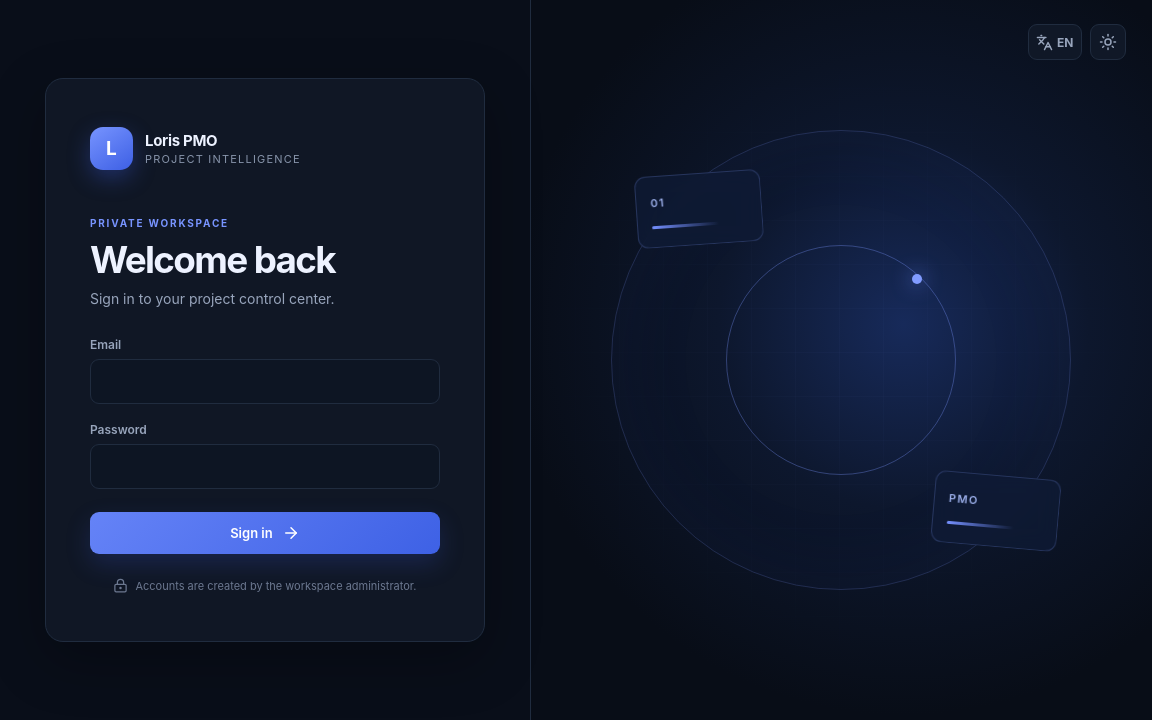
application foundation › redirects an anonymous user to login and signs in
This screenshot has width=1152, height=720.
Check: the heading "Welcome back" is shown, box [90,237,335,282]
Type "manager@example.com" into the field labelled "Email". click: (265, 382)
box: [90,359,440,404]
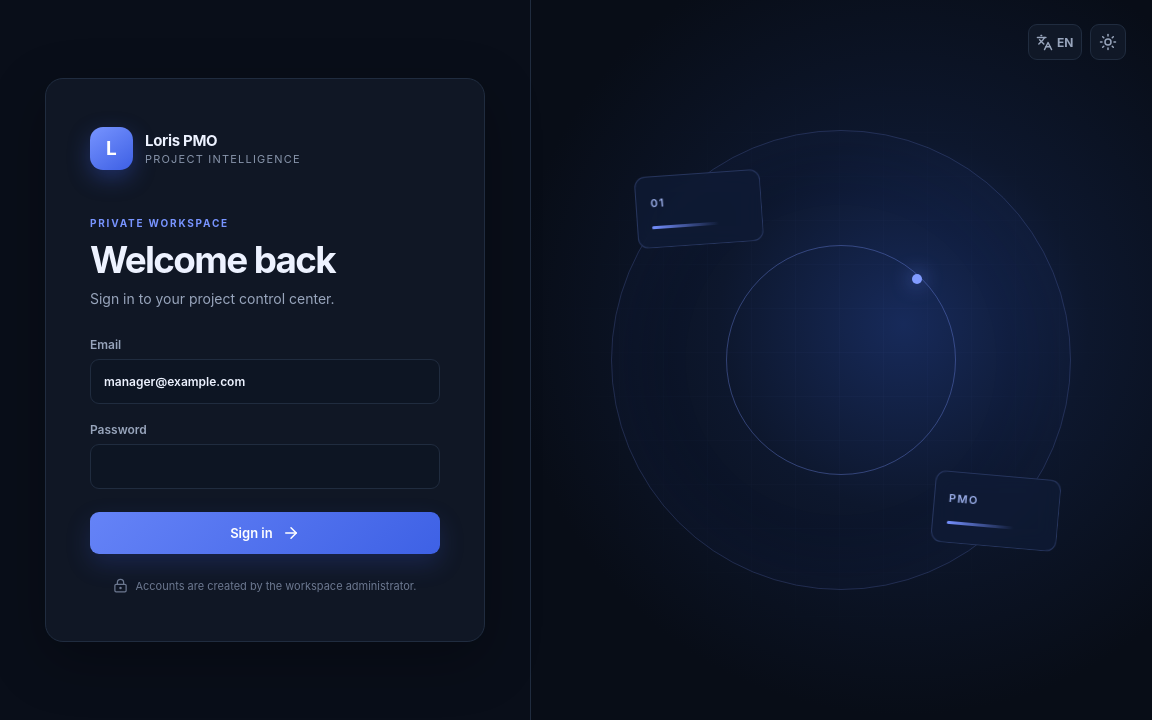
Type "secret password" into the password field labelled "Password". click: (265, 466)
box: [90,444,440,489]
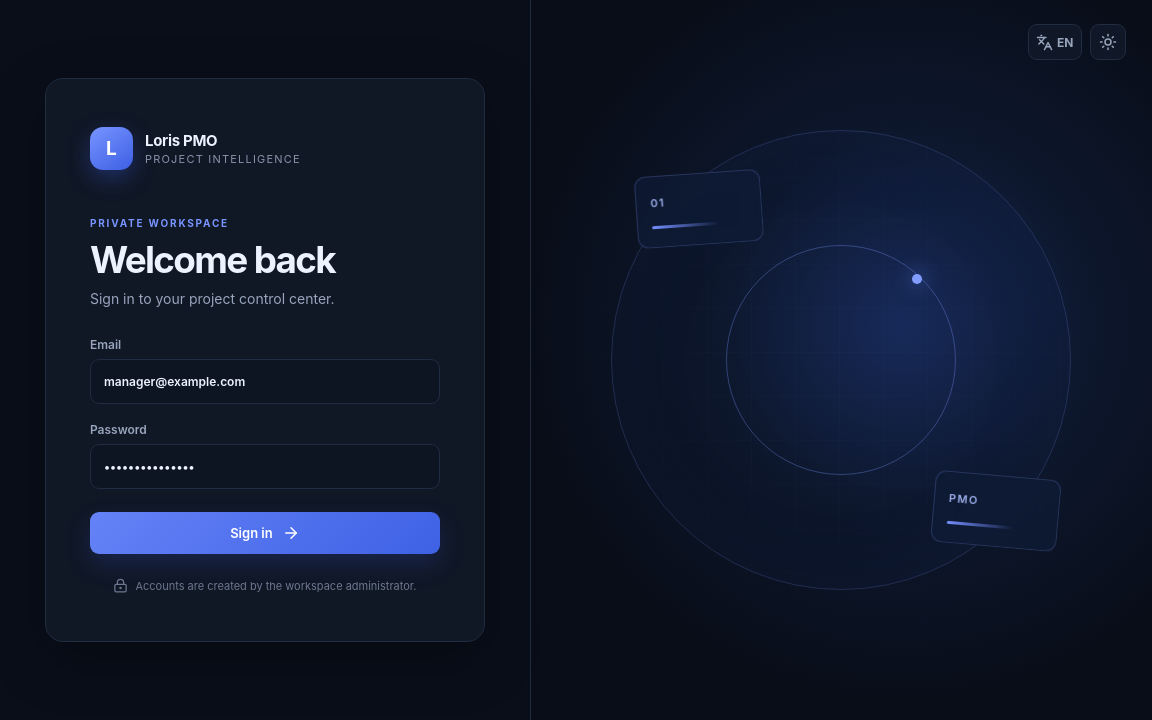
Click the button "Sign in". click: (265, 533)
box: [90,512,440,554]
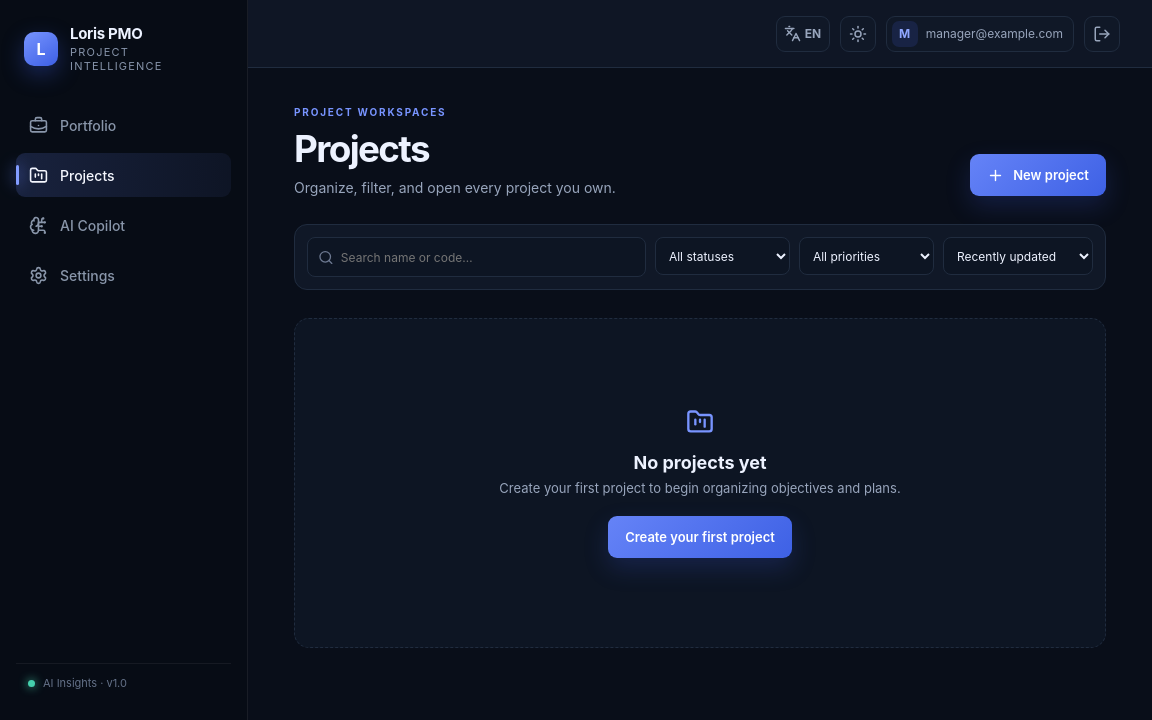
Check: the heading "Projects" is shown, box [294,126,429,171]
